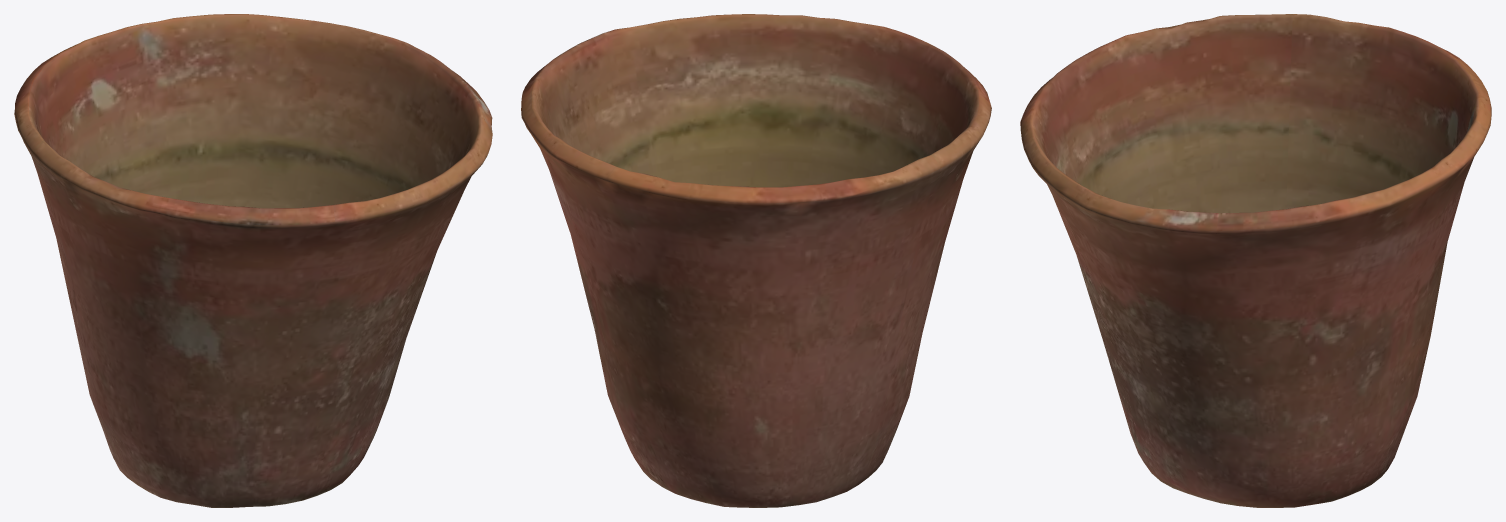
The model's file is planter_pot_clay.glb.
3 renders of one model, left to right at view 1: azimuth 30°, elevation 25°; view 2: azimuth 150°, elevation 25°; view 3: azimuth 270°, elevation 25°, orthographic.
Visible parts, largest first — view 1: planter_pot_clay; view 2: planter_pot_clay; view 3: planter_pot_clay.
Boxes of the visible parts, x1=… form: planter_pot_clay: x1=14, y1=14, x2=492, y2=507; planter_pot_clay: x1=521, y1=14, x2=991, y2=507; planter_pot_clay: x1=1020, y1=14, x2=1491, y2=507.
Bounding box in the file's own units: 0.266 × 0.2219 × 0.2635.
1 material, 1 textured.
